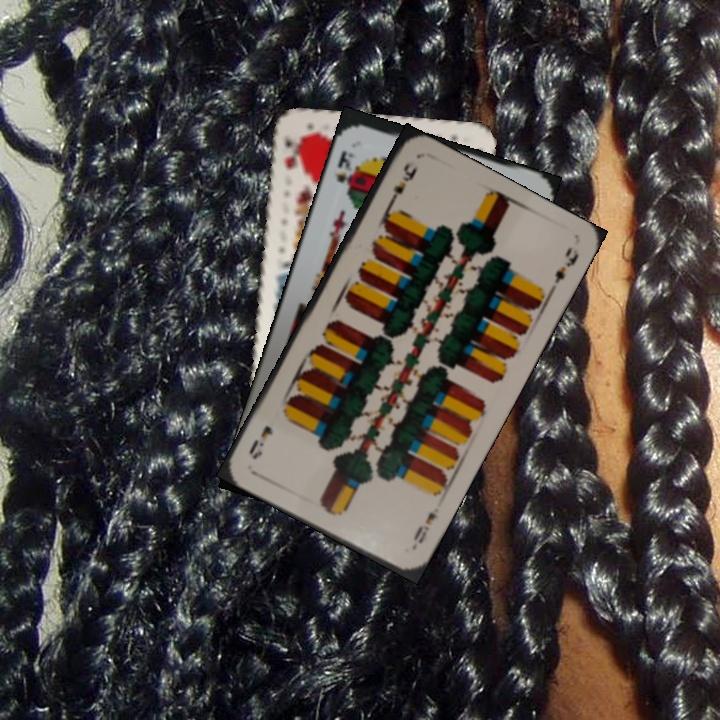E9: (384, 156, 420, 211), (409, 507, 439, 546)
HK: (280, 132, 302, 173)
SK: (331, 146, 360, 196)
